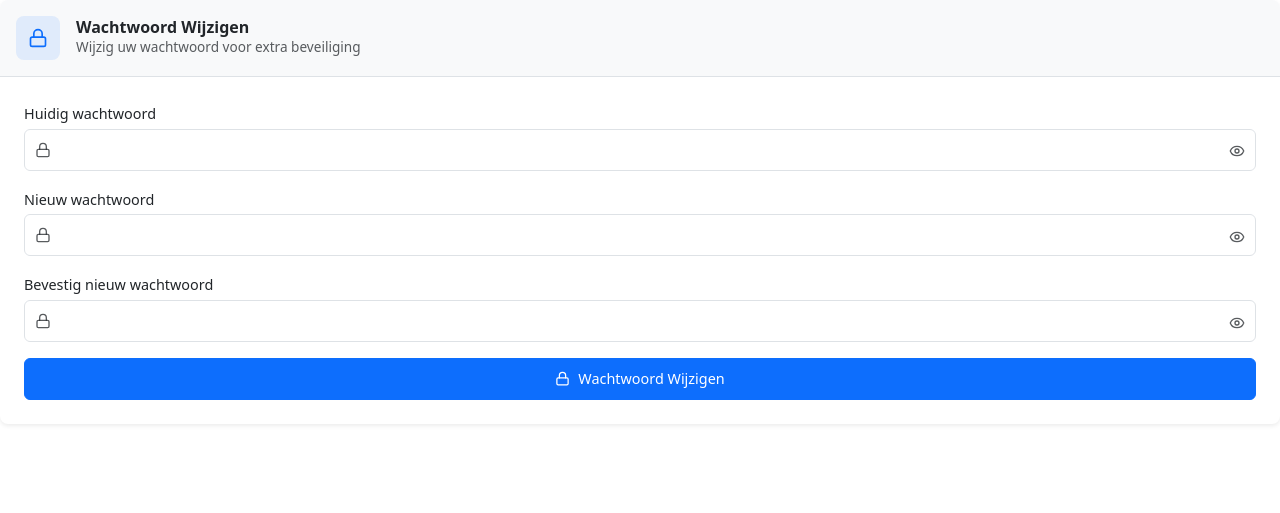
Test case: PasswordCard.vue › shows error when new password is less than 6 characters
The image size is (1280, 513).
Type "oldpass" into the password field with id "currentPassword" at (640, 150), box [24,129,1256,171]
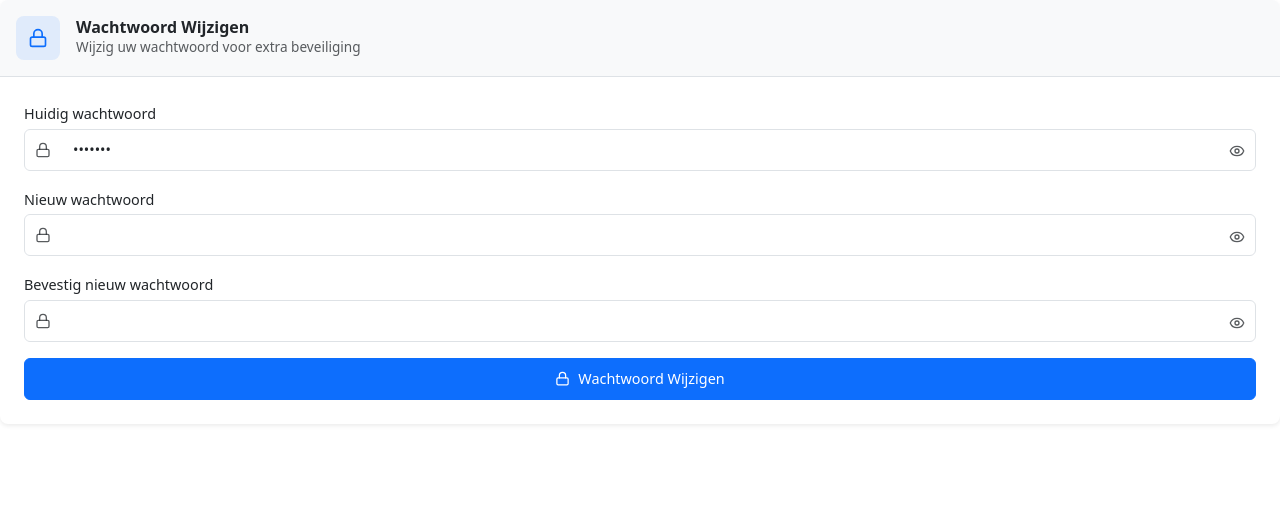
Type "short" into the password field with id "newPassword" at (640, 235), box [24,214,1256,256]
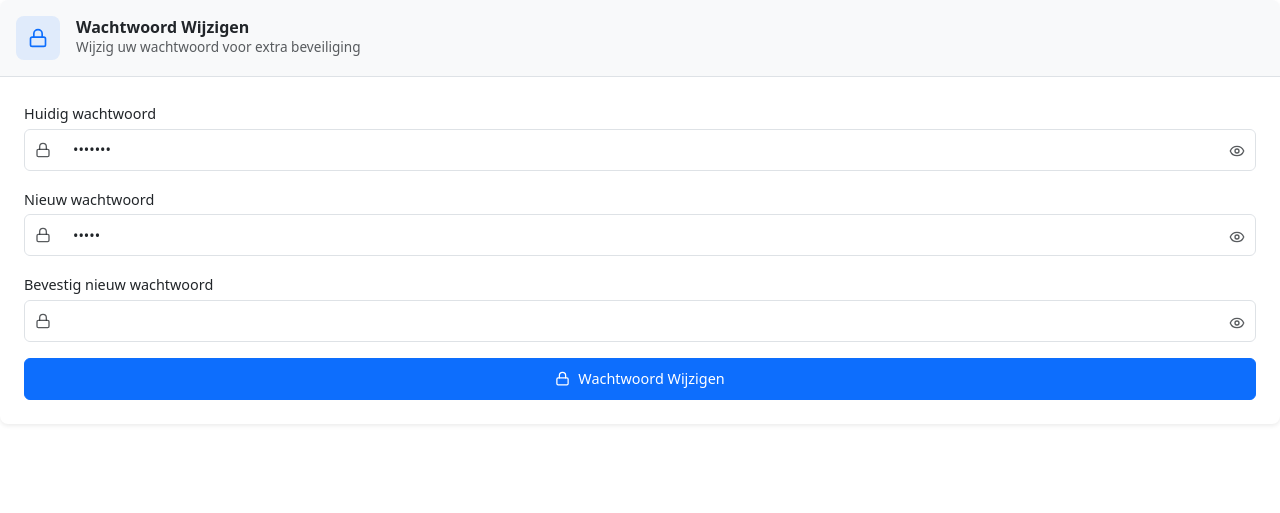
Type "short" into the password field with id "confirmPassword" at (640, 321), box [24,300,1256,342]
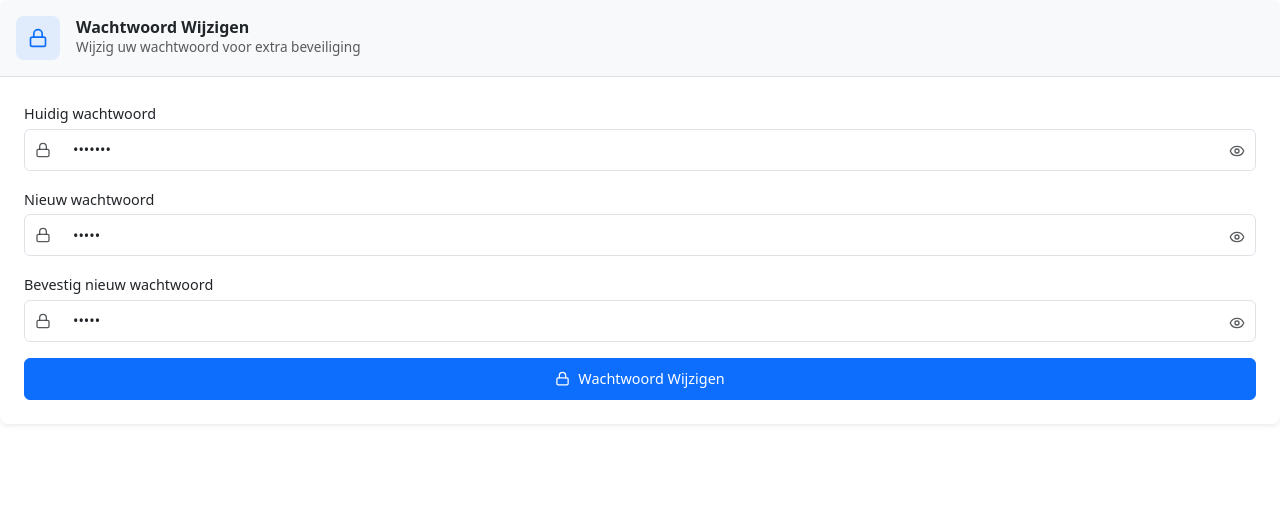
Submit the form, box [24,101,1256,400]
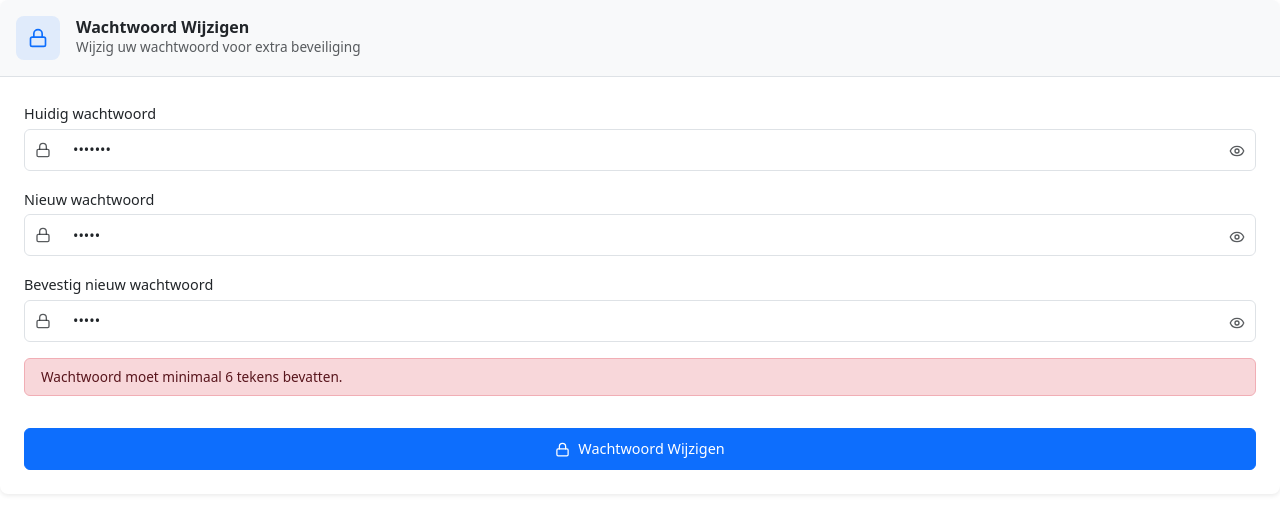
Result: the text "Wachtwoord moet minimaal 6 tekens bevatten." is shown at [24,358,1256,396]
